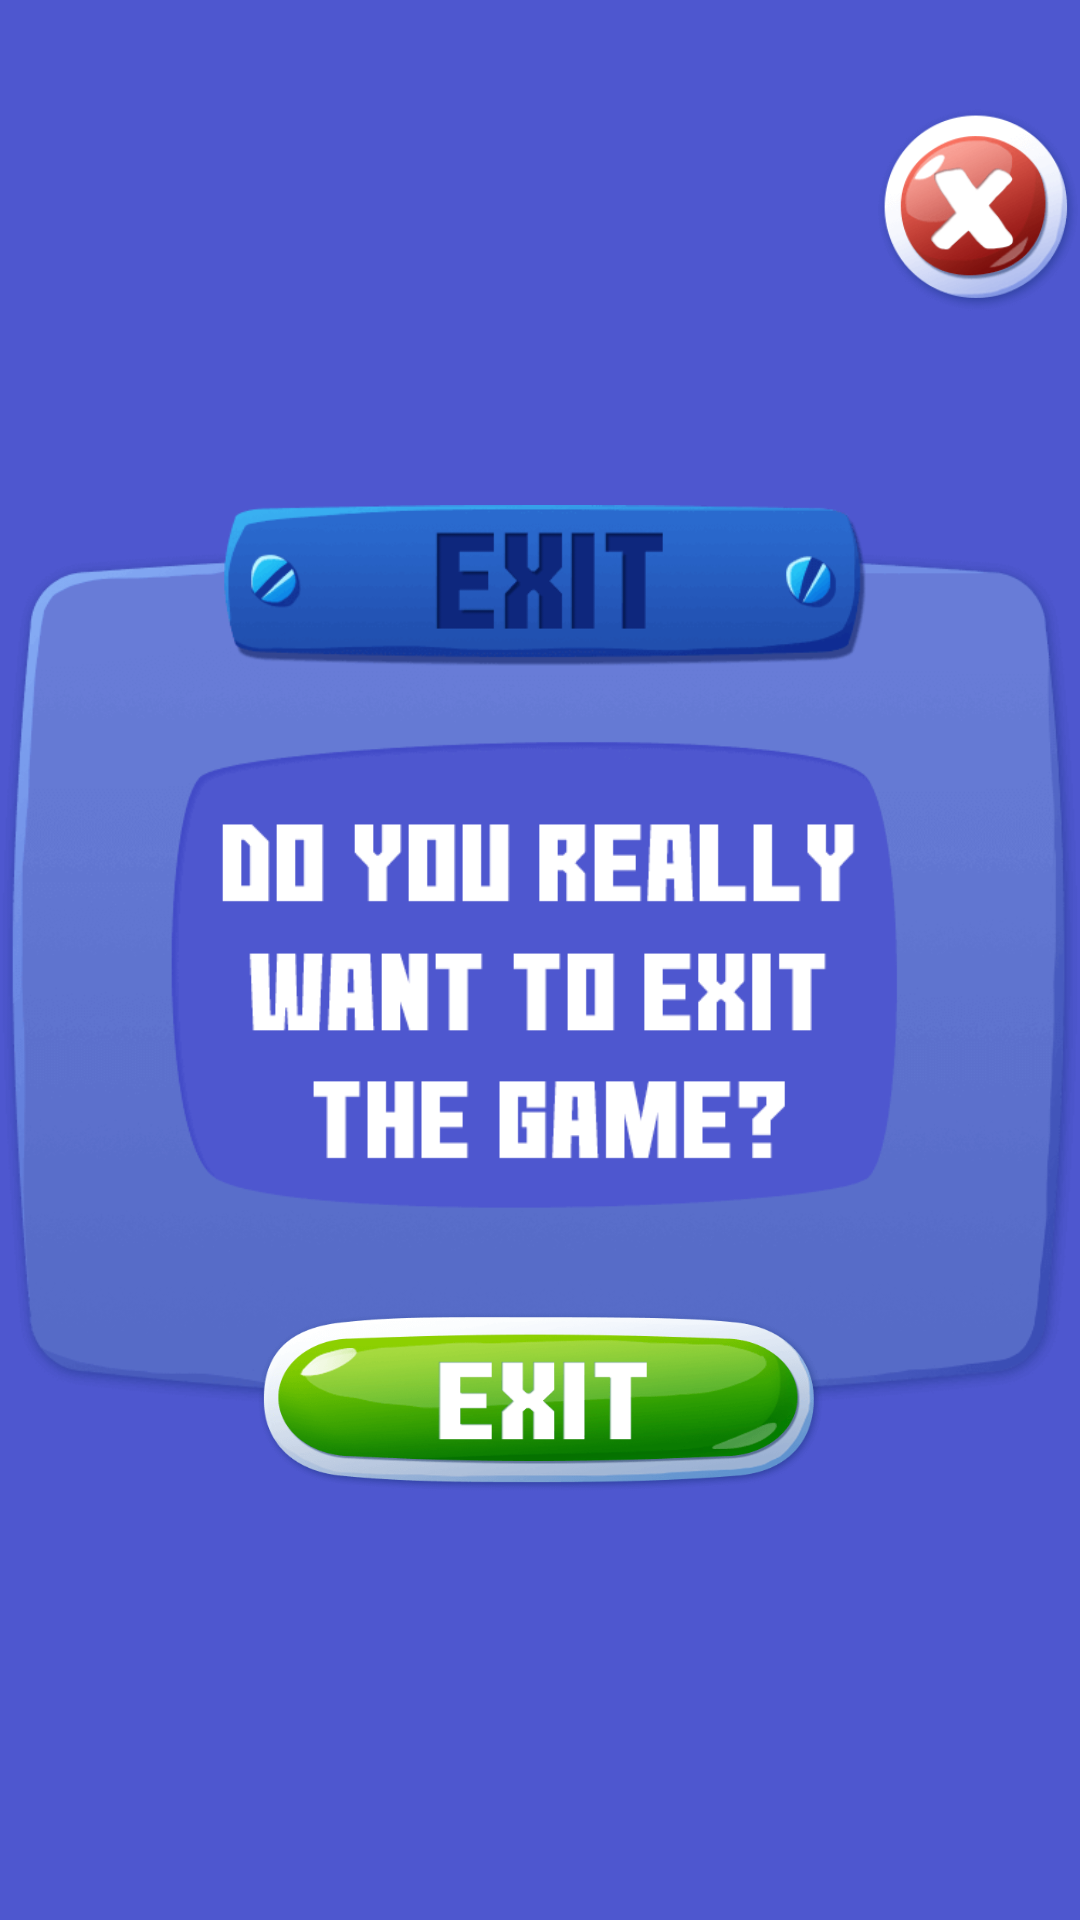

Icons on this 1080×1920 Android screen, each with its box as detection(x1, y1, x2, y2):
close: detection(884, 115, 1069, 301)
